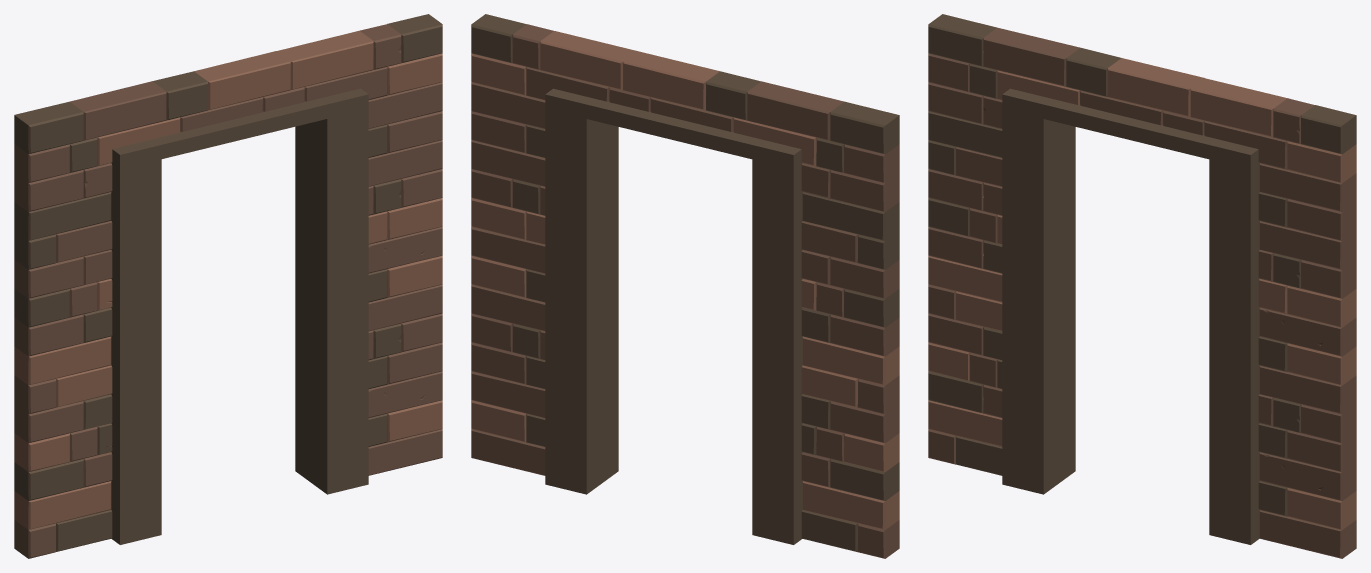
The model's file is victorian_wall_brick_1_door.fbx.
The picture shows the model from 3 angles, left to right: view 1: azimuth 30°, elevation 25°; view 2: azimuth 150°, elevation 25°; view 3: azimuth 330°, elevation 25°; orthographic projection.
Visible parts, largest first — view 1: Cube.164; view 2: Cube.164; view 3: Cube.164.
Boxes of the visible parts, <box> form: Cube.164: <box>14,14,442,558</box>; Cube.164: <box>471,14,899,558</box>; Cube.164: <box>928,14,1356,558</box>.
Size of the model in its own units: 300 by 300 by 40.
